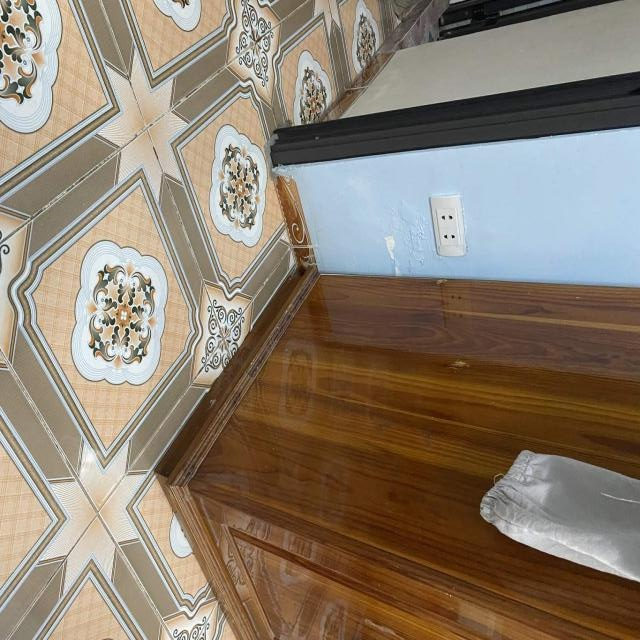outlet: (430, 195, 467, 257)
